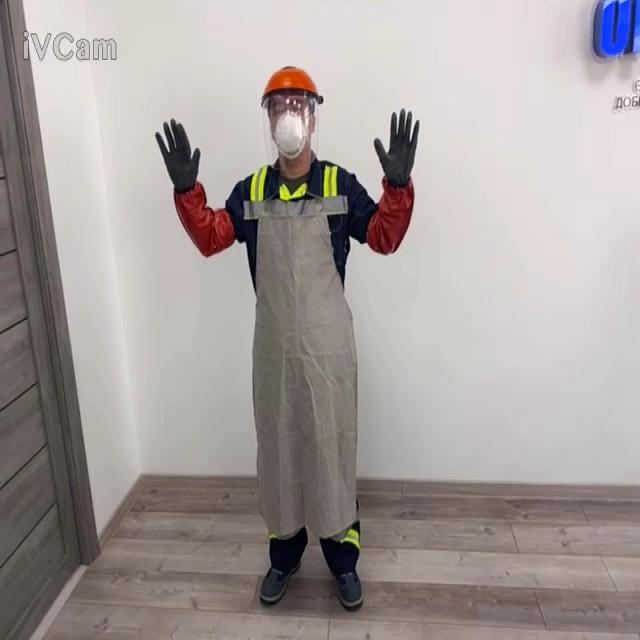Gloves: (373, 107, 419, 188), (154, 118, 200, 194)
Mask: (271, 108, 308, 160)
Safety Shoes: (259, 558, 301, 602), (335, 568, 363, 608)
Sleeve: (173, 179, 235, 257), (365, 173, 414, 255)
